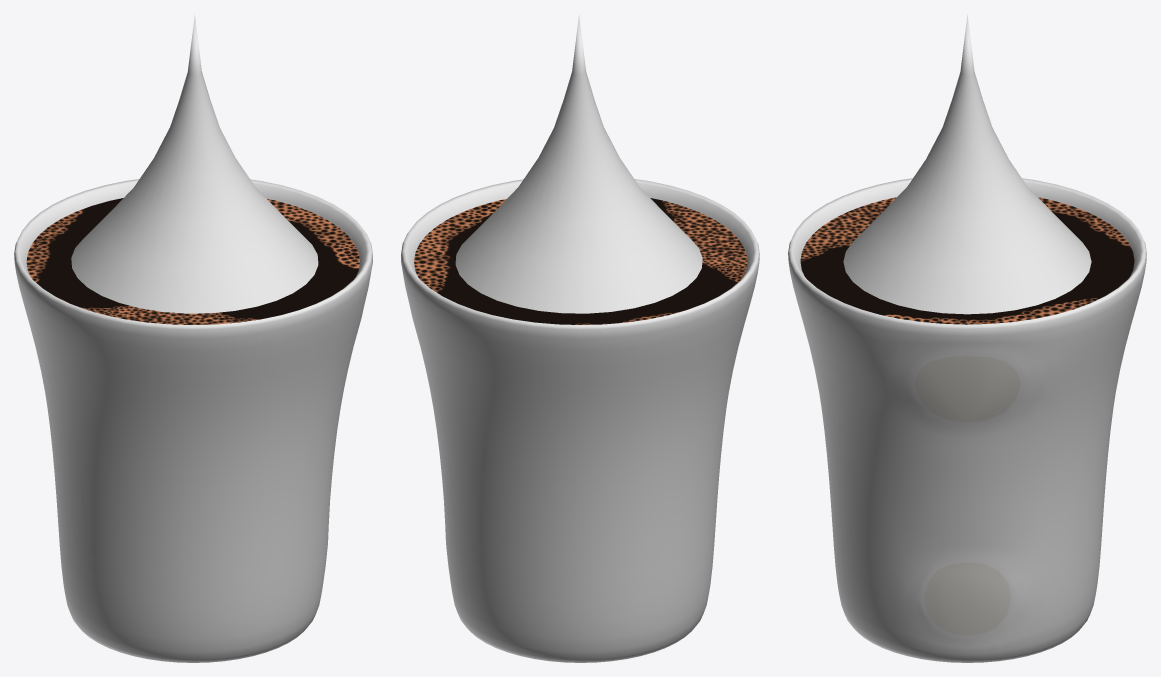
Rendered from coffee.fbx.
3 views of the same model, side by side, from view 1: azimuth 30°, elevation 25°; view 2: azimuth 150°, elevation 25°; view 3: azimuth 270°, elevation 25° (orthographic).
Visible parts, largest first — view 1: Cup, Smoke, Coffee; view 2: Cup, Smoke, Coffee; view 3: Cup, Smoke, Coffee.
Part boxes in pixels (x1,y1,x2,y2): Cup: (14, 179, 372, 662); Smoke: (71, 14, 318, 313); Coffee: (26, 198, 359, 324); Cup: (401, 179, 759, 662); Smoke: (455, 14, 702, 313); Coffee: (414, 198, 747, 324); Cup: (788, 178, 1146, 662); Smoke: (843, 14, 1091, 314); Coffee: (800, 197, 1134, 324).
Bounding box in the file's own units: 108 × 198 × 107.
